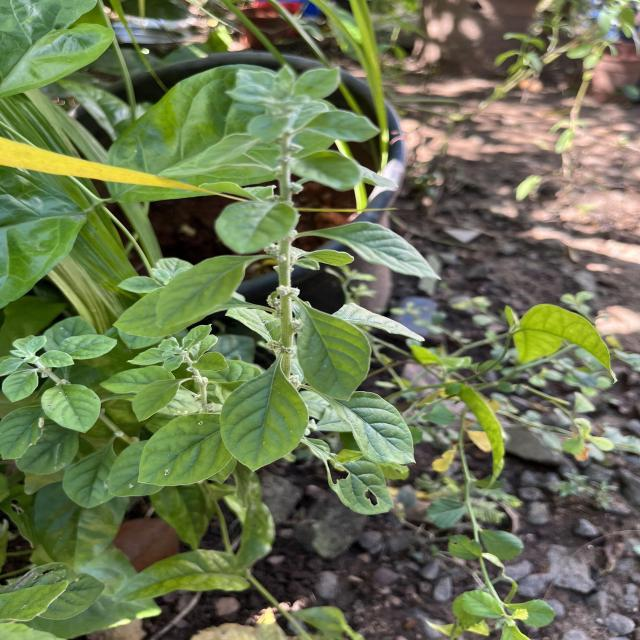Aerva lanata: (217, 356, 312, 474), (134, 411, 236, 488), (324, 390, 419, 467), (40, 382, 102, 434)
